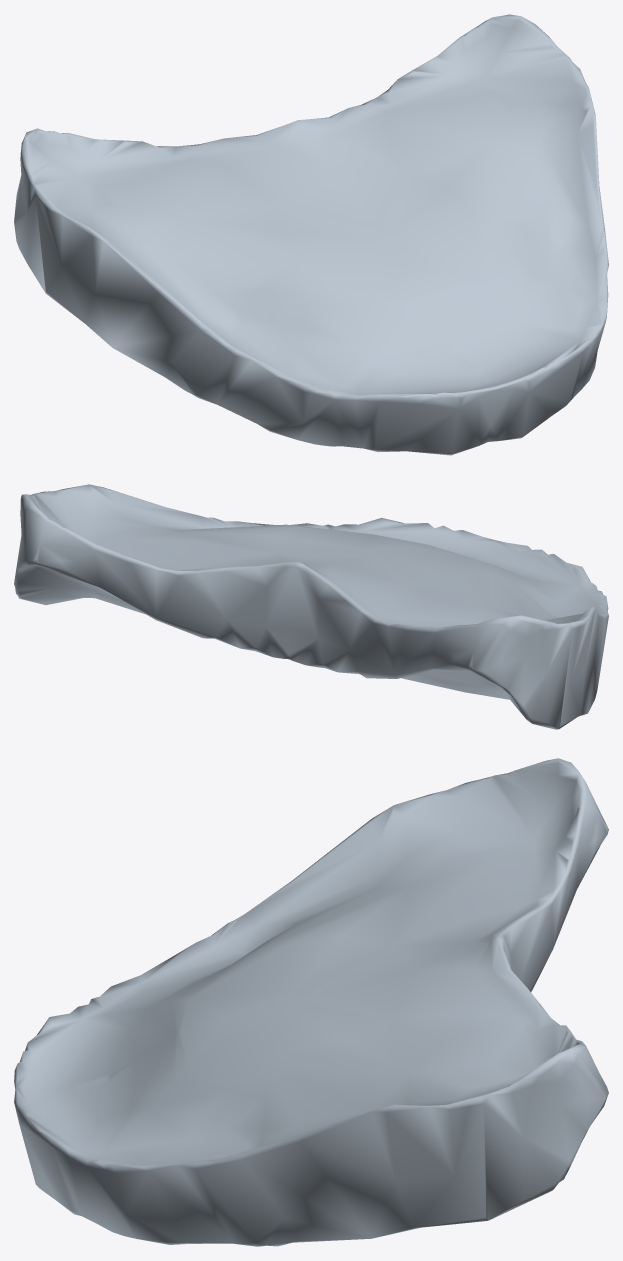
File: intervertebral-disc-t3-t4.glb
The picture shows the model from 3 angles, top to bottom: view 1: azimuth 30°, elevation 25°; view 2: azimuth 150°, elevation 25°; view 3: azimuth 270°, elevation 25°; orthographic projection. The views are drawn at different scales.
Parts seen in each view (by area): view 1: Intervertebral disc T3-T4; view 2: Intervertebral disc T3-T4; view 3: Intervertebral disc T3-T4.
Boxes of the visible parts, x1,y1,x2,y2 form: Intervertebral disc T3-T4: [14, 14, 608, 455]; Intervertebral disc T3-T4: [14, 484, 608, 729]; Intervertebral disc T3-T4: [14, 758, 608, 1246].
Bounding box in the file's own units: 0.0333 × 0.0127 × 0.0261.
